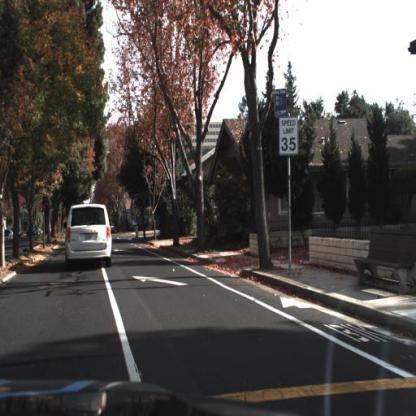car: (65, 198, 114, 271)
